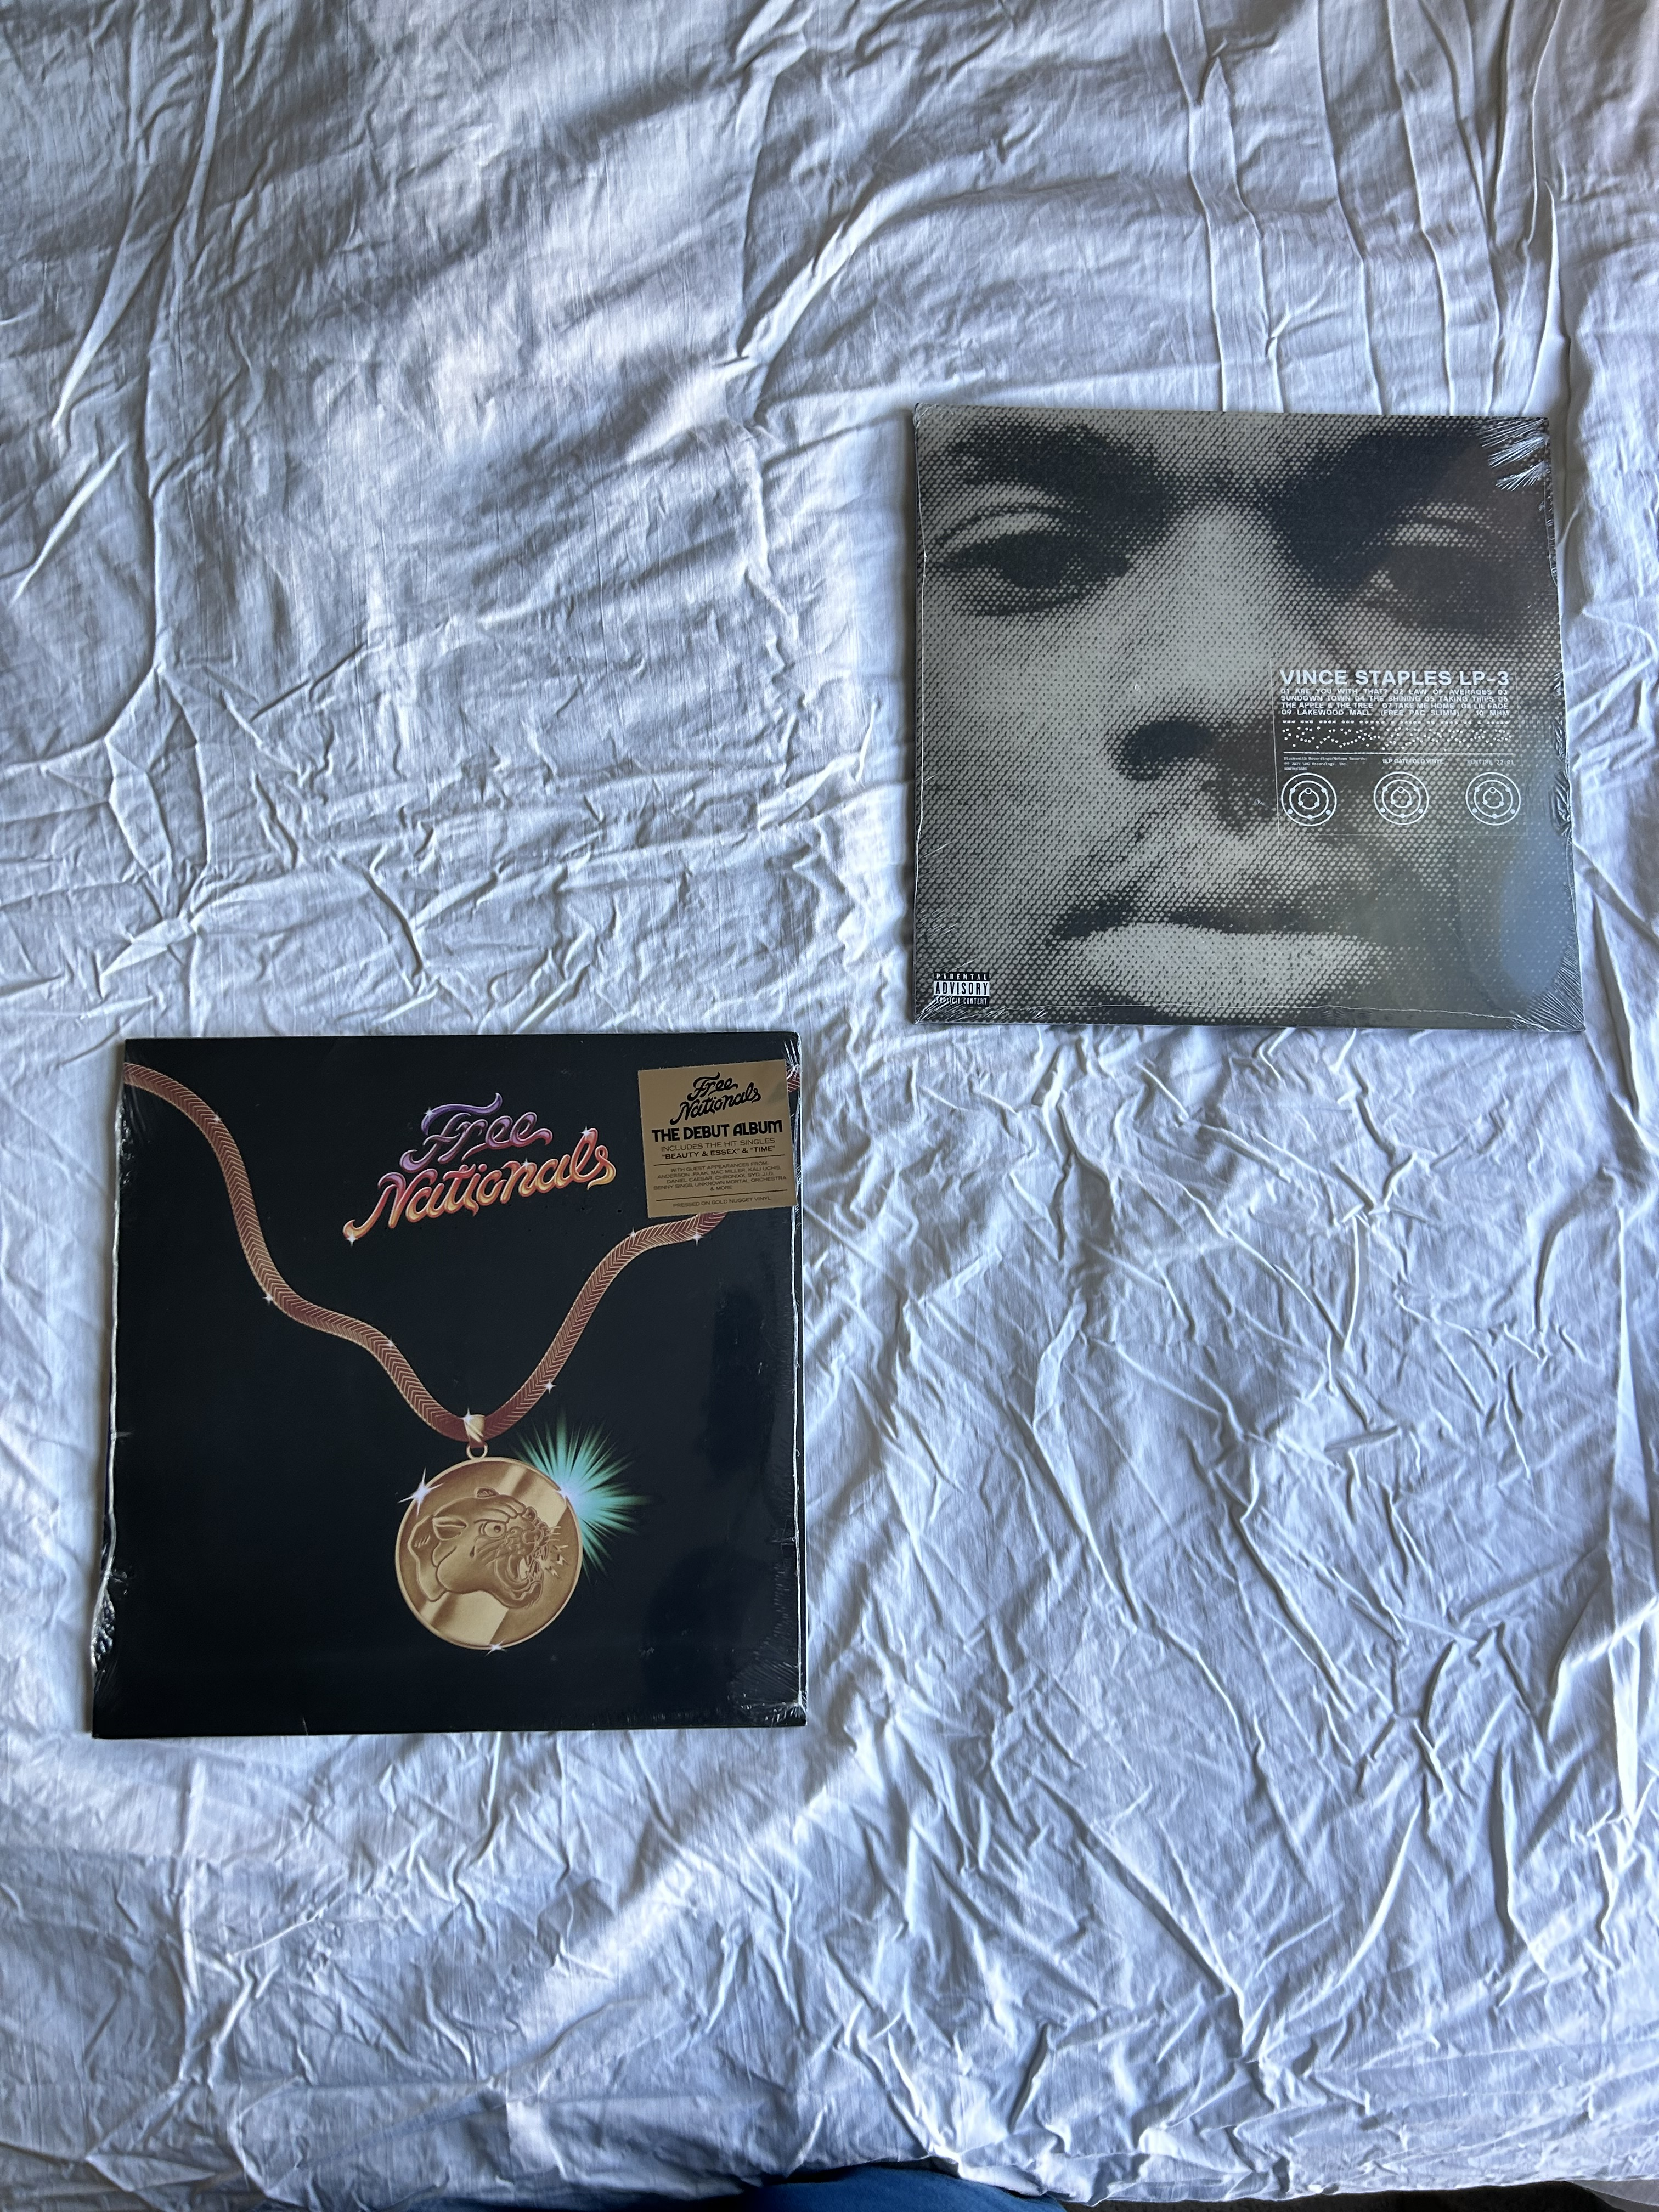free nationals_free nationals: (92, 1028, 802, 1740)
vince staples_vince staples: (911, 406, 1591, 1036)
